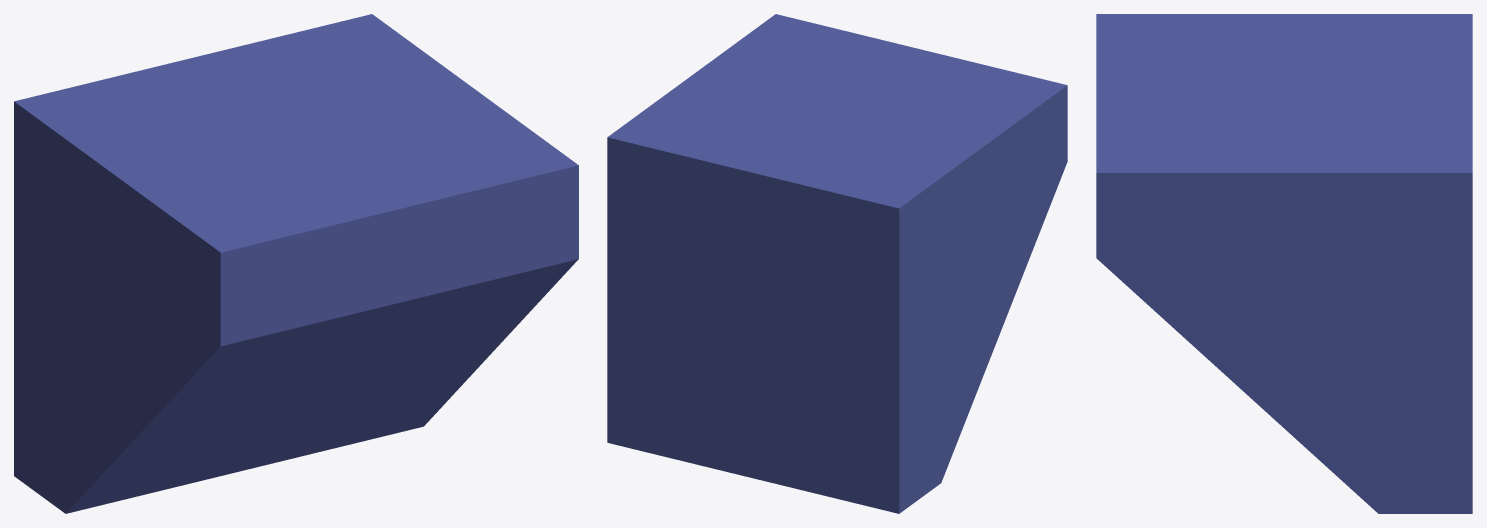
File: CoL_AngledCube_01.fbx
3 views of the same model, side by side, from view 1: azimuth 30°, elevation 25°; view 2: azimuth 150°, elevation 25°; view 3: azimuth 270°, elevation 25° (orthographic). The views are drawn at different scales.
Visible parts, largest first — view 1: CoL_AngledCube_01; view 2: CoL_AngledCube_01; view 3: CoL_AngledCube_01.
Part boxes in pixels (bbox=[...]): CoL_AngledCube_01: bbox=[14, 14, 578, 513]; CoL_AngledCube_01: bbox=[607, 14, 1067, 513]; CoL_AngledCube_01: bbox=[1096, 14, 1472, 513].
Bounding box in the file's own units: 200 × 200 × 200.
